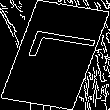L_E: (12, 34, 98, 76)
